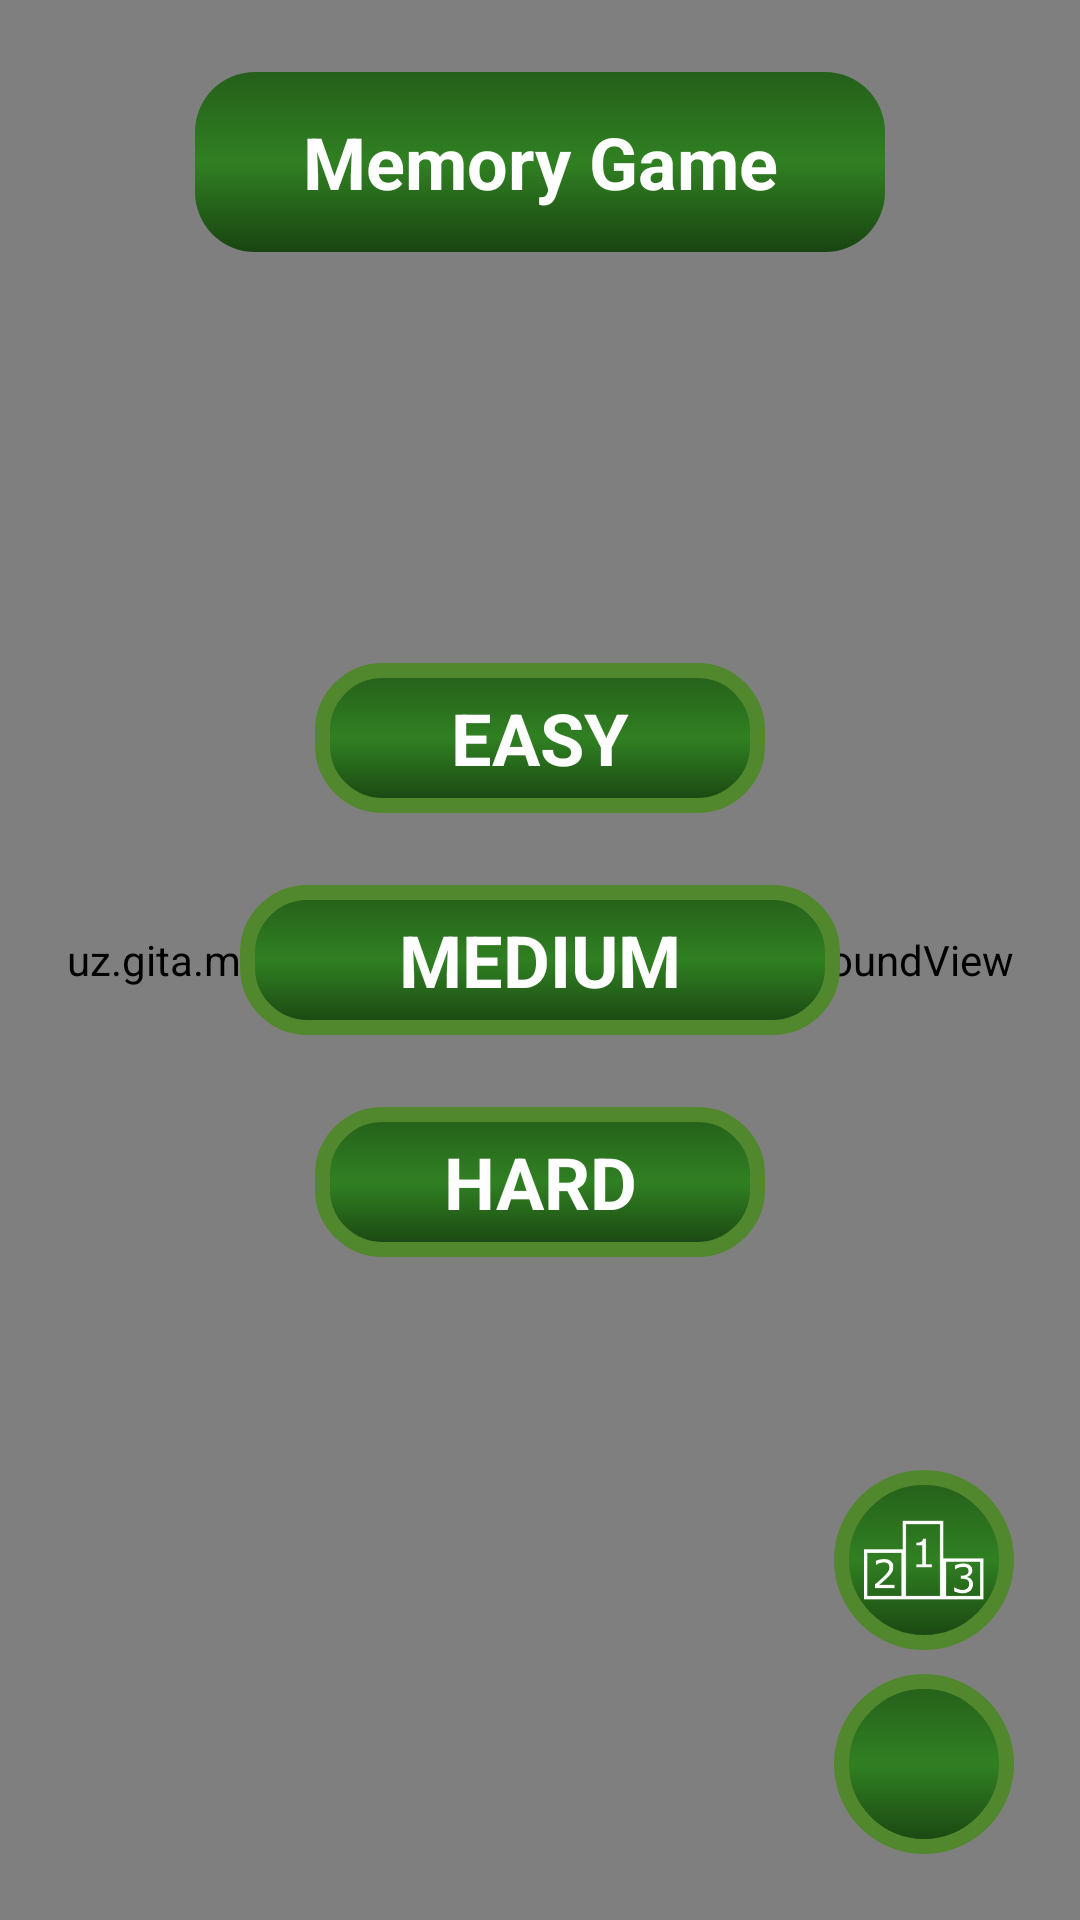

Where to tap for icons on this 1080 × 1920 app screen, as [x,y]:
scores: [924,1560]
